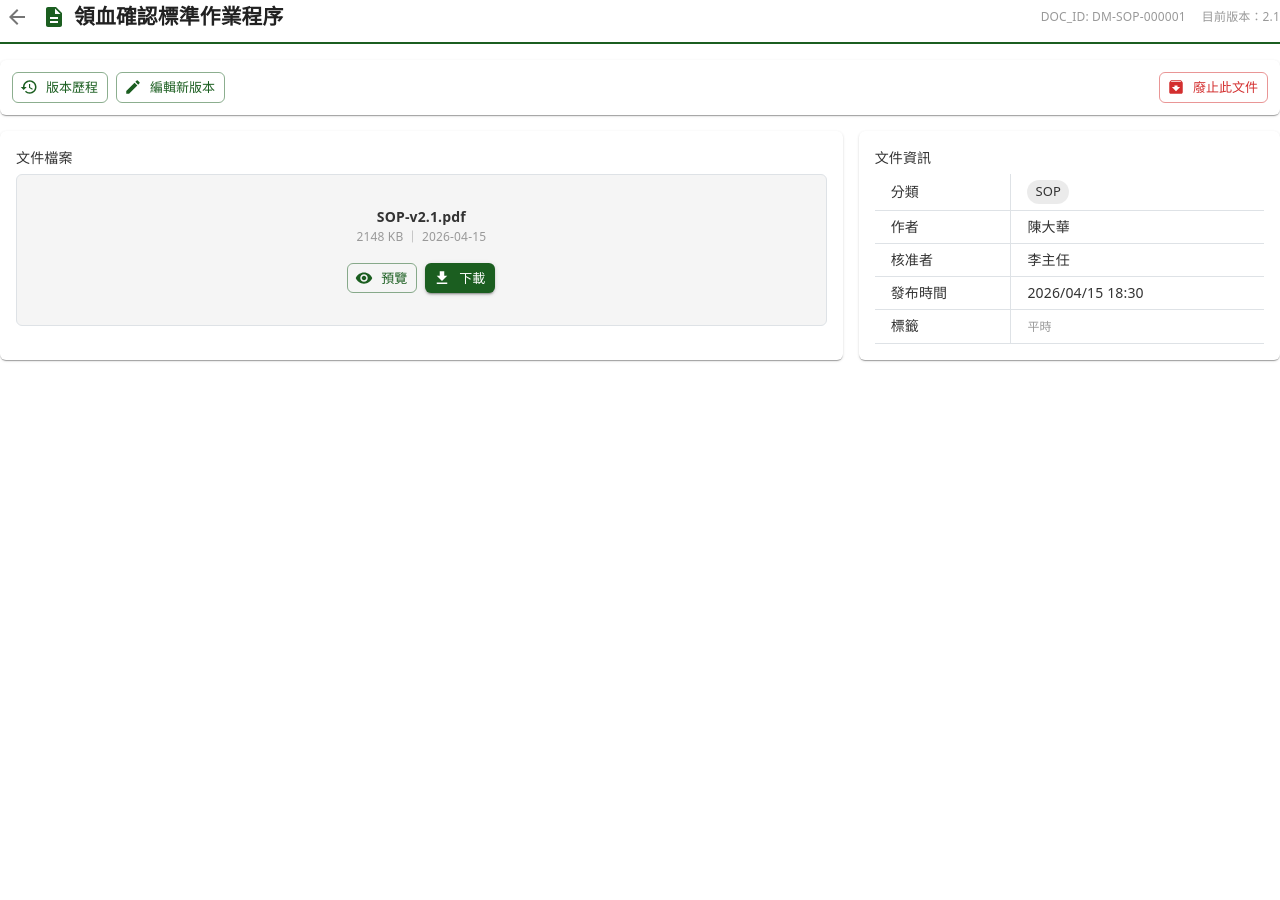
Test case: DmDetailPage 文件詳細頁 › 廢止對話框：未填原因即送出 → 顯示必填錯誤（US8 / DM-MSG-DM07-011）
Click the button "廢止此文件" at (1214,87), box [1159, 72, 1268, 103]
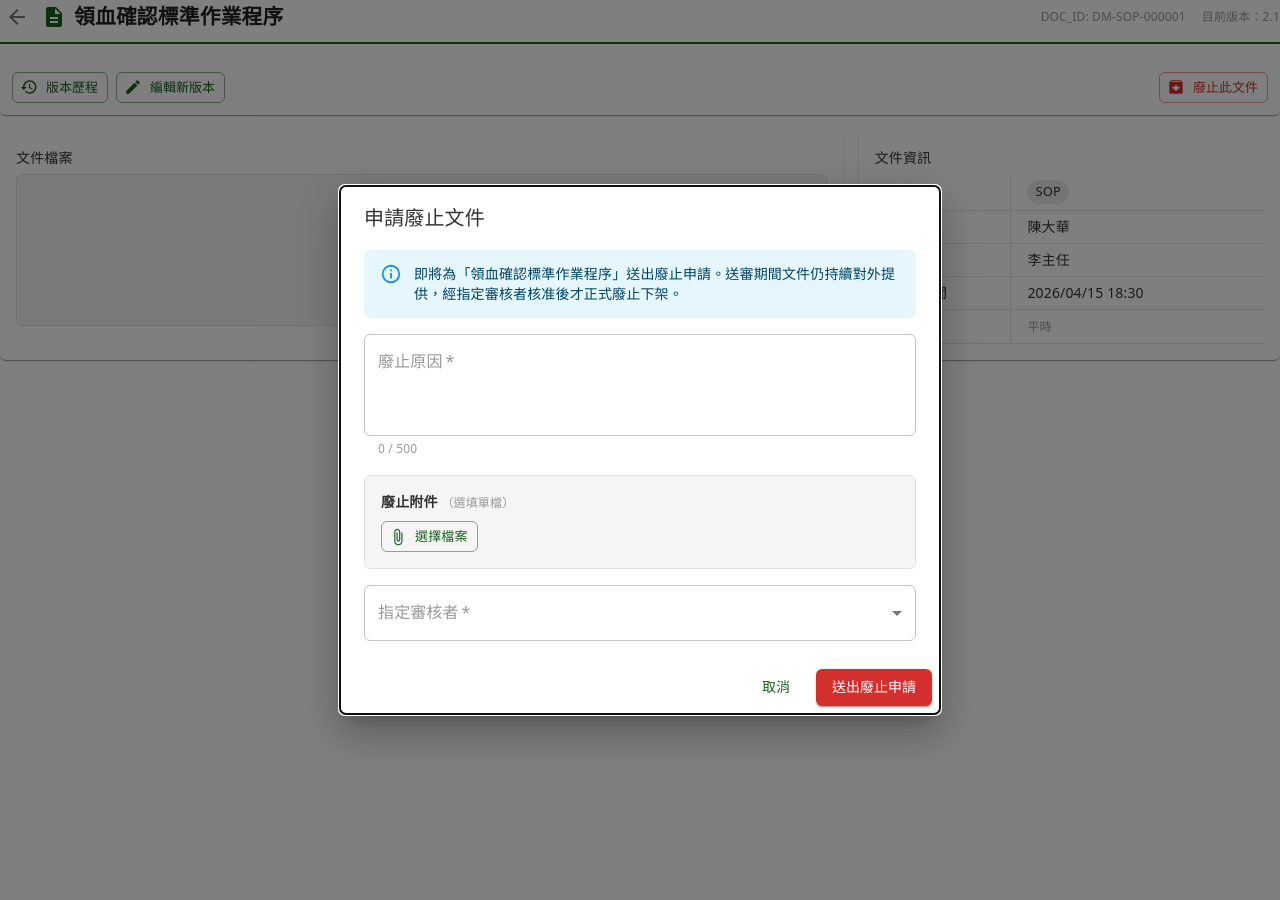
Check: the heading "申請廢止文件" is shown, box [364, 204, 485, 232]
Click the button "送出廢止申請" at (874,687), box [816, 669, 932, 706]
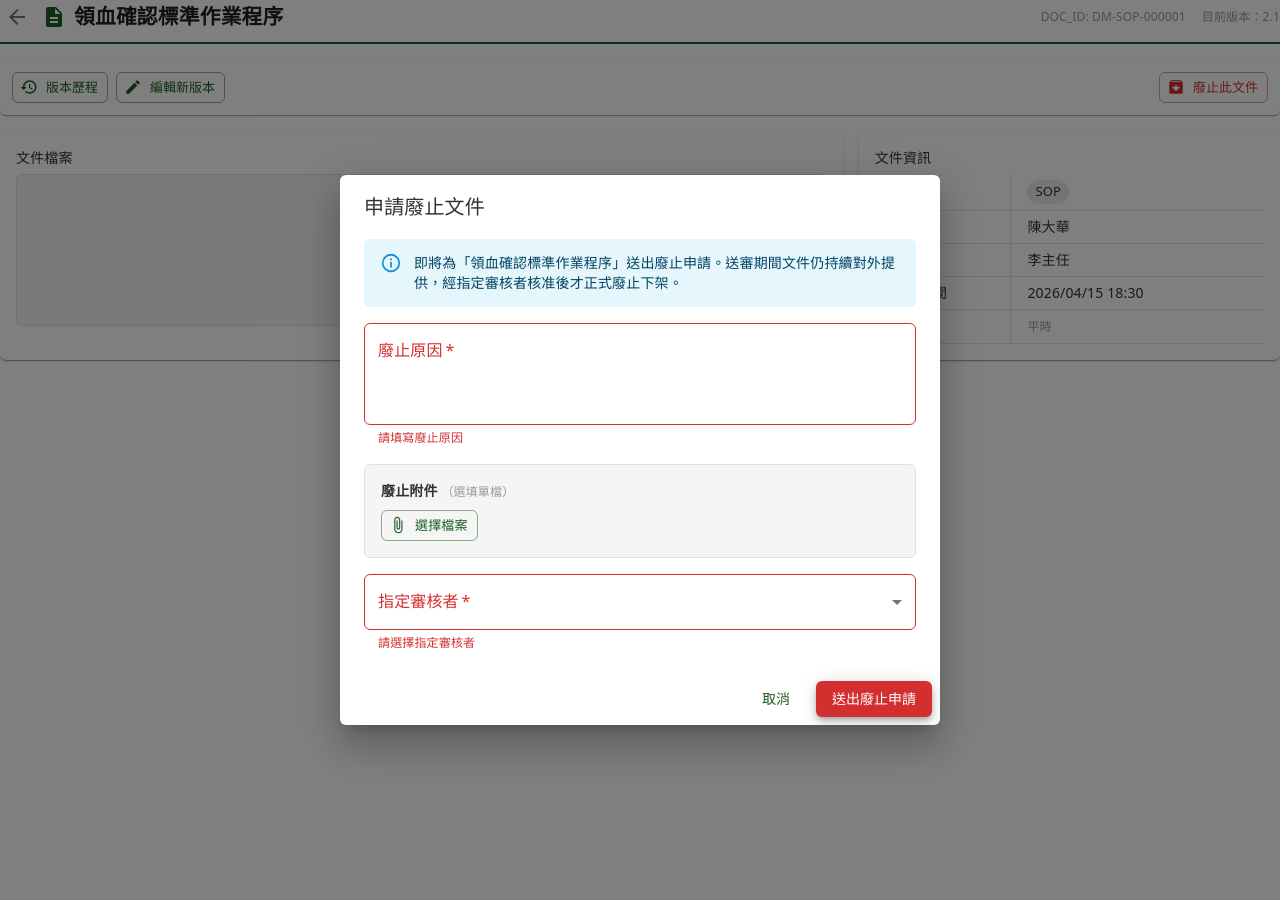
Check: the text "請填寫廢止原因" is shown, box [378, 429, 463, 446]
